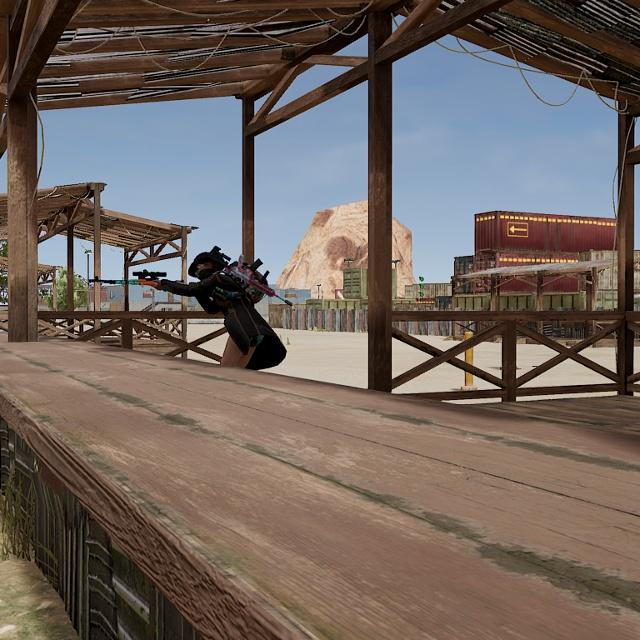head: (187, 251, 219, 279)
people: (187, 250, 267, 370)
